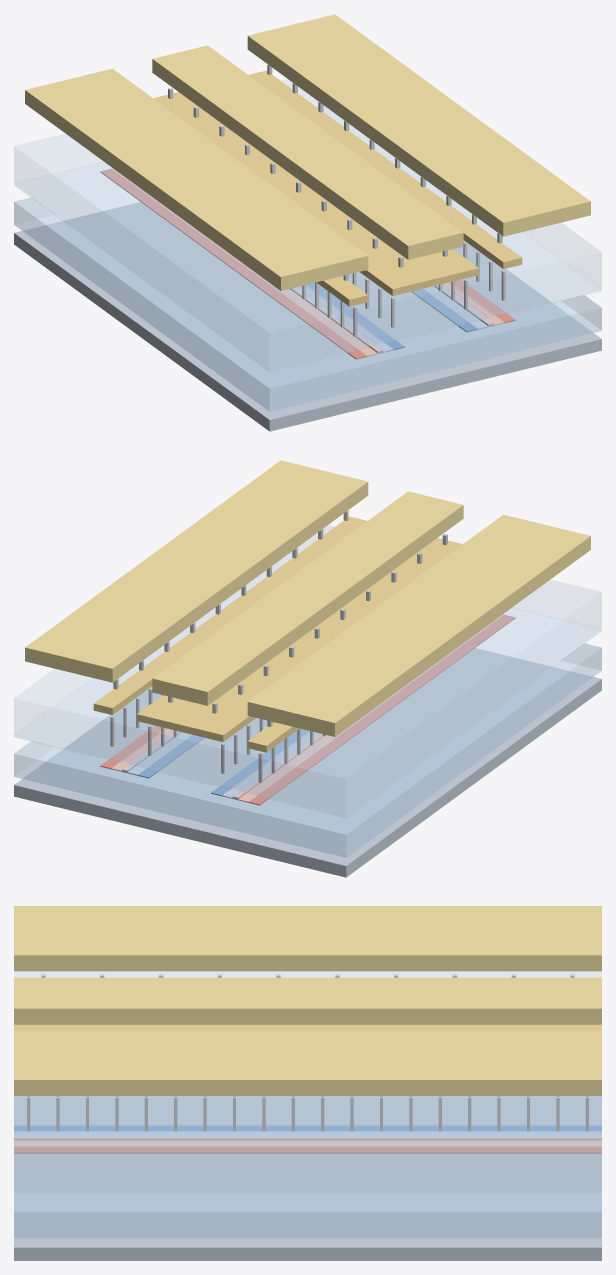
File: stack-mzm-x.glb
3 views of the same model, one above another, from view 1: azimuth 30°, elevation 25°; view 2: azimuth 150°, elevation 25°; view 3: azimuth 270°, elevation 25° (orthographic). The views are drawn at different scales.
Visible parts, largest first — view 1: metal2, sisub, cladd, box, metal1, pp, wplug, pdop, ndop, nn; view 2: metal2, sisub, cladd, box, metal1, pp, wplug, pdop, ndop, nn; view 3: metal2, sisub, cladd, box, pdop, pp, ndop, metal1, nn, wplug.
Part boxes in pixels (left/top/right/bottom): metal2: left=25, top=14, right=590, bottom=290; sisub: left=14, top=202, right=601, bottom=431; cladd: left=14, top=79, right=601, bottom=371; box: left=14, top=197, right=601, bottom=411; metal1: left=153, top=70, right=522, bottom=306; pp: left=100, top=169, right=515, bottom=359; wplug: left=168, top=64, right=505, bottom=336; pdop: left=112, top=168, right=504, bottom=356; ndop: left=294, top=285, right=491, bottom=353; nn: left=306, top=283, right=477, bottom=350; metal2: left=25, top=460, right=590, bottom=736; sisub: left=14, top=648, right=601, bottom=877; cladd: left=14, top=525, right=601, bottom=817; box: left=14, top=643, right=601, bottom=857; metal1: left=93, top=516, right=462, bottom=752; pp: left=100, top=615, right=515, bottom=805; wplug: left=110, top=510, right=447, bottom=782; pdop: left=111, top=614, right=503, bottom=802; ndop: left=124, top=731, right=321, bottom=799; nn: left=138, top=729, right=309, bottom=796; metal2: left=14, top=906, right=601, bottom=1095; sisub: left=14, top=1096, right=601, bottom=1260; cladd: left=14, top=972, right=601, bottom=1192; box: left=14, top=1192, right=601, bottom=1238; pdop: left=14, top=1137, right=601, bottom=1146; pp: left=14, top=1146, right=601, bottom=1153; ndop: left=14, top=1131, right=601, bottom=1137; metal1: left=14, top=1024, right=601, bottom=1030; nn: left=14, top=1125, right=601, bottom=1131; wplug: left=27, top=974, right=588, bottom=1131.
Size of the model in its own units: 30 by 13.1 by 40.
